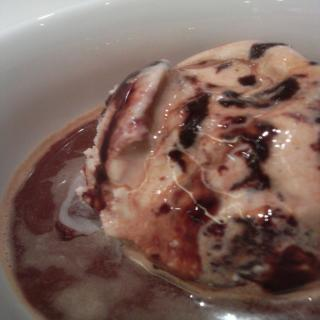Ice cream: (70, 38, 320, 320)
